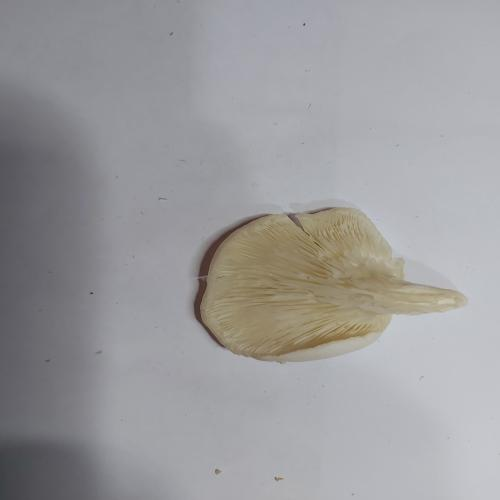Oyster Mushroom: (197, 206, 468, 364)
